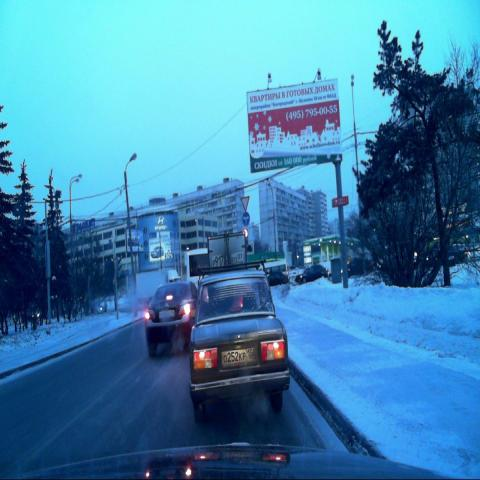2_4: (240, 195, 250, 211)
4_1_6: (241, 213, 250, 227)
